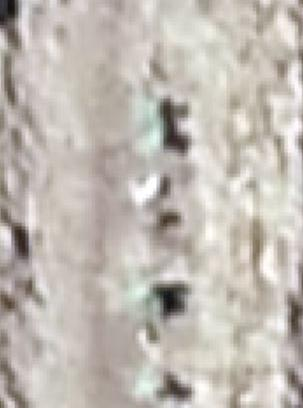cotton: (129, 285, 153, 310), (140, 123, 161, 147), (144, 103, 162, 124)
